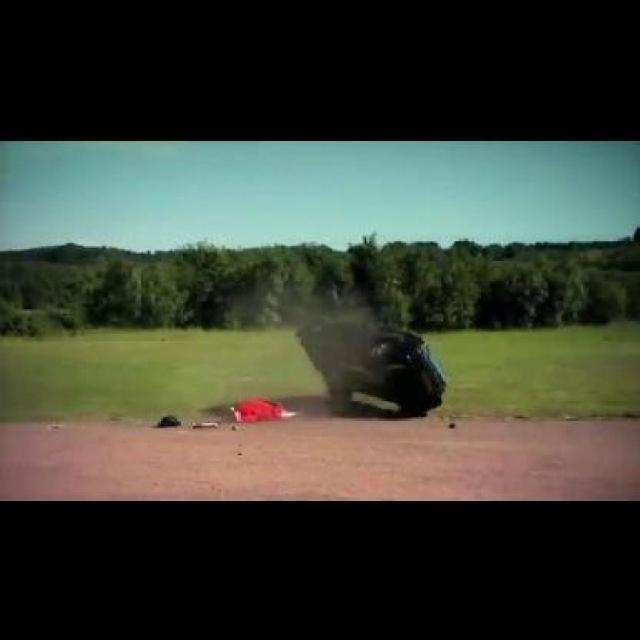accident: (294, 304, 448, 418)
